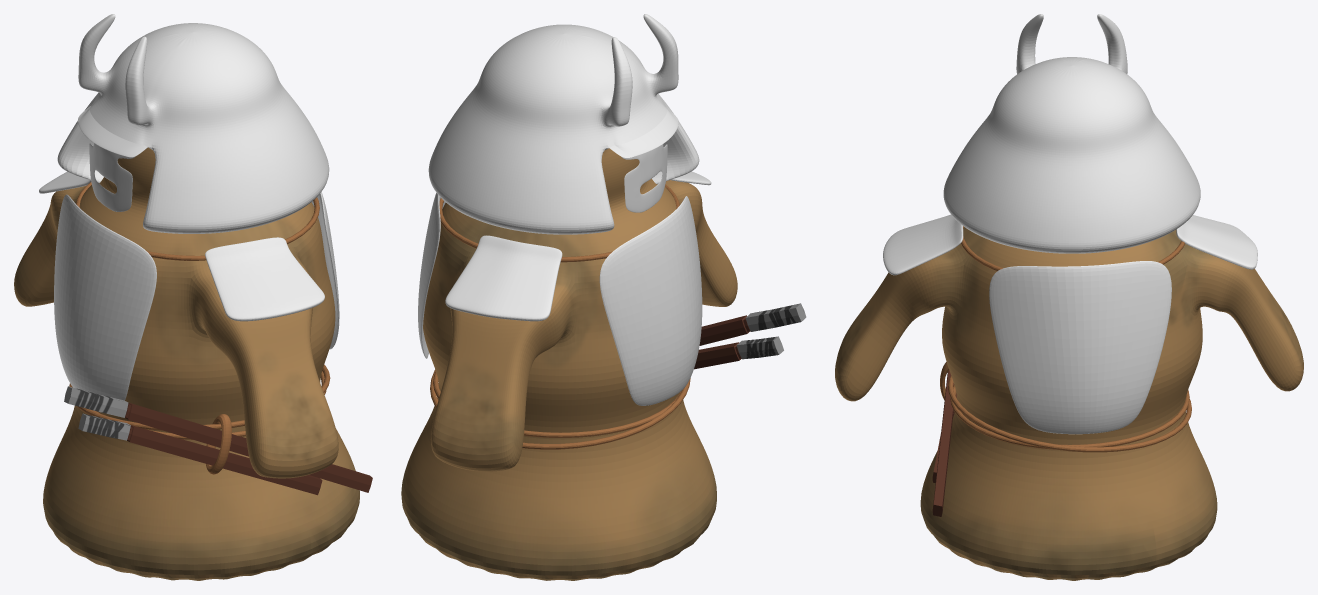
File: Samurai.fbx
3 views of the same model, side by side, from view 1: azimuth 30°, elevation 25°; view 2: azimuth 150°, elevation 25°; view 3: azimuth 270°, elevation 25° (orthographic). The views are drawn at different scales.
Parts seen in each view (by area): view 1: Unit Samurai, Samura, Katana, Belts; view 2: Unit Samurai, Samura, Katana, Belts; view 3: Samura, Unit Samurai, Belts, Katana.
Part boxes in pixels (x1=…): Unit Samurai: x1=14, y1=147, x2=359, y2=580; Samura: x1=39, y1=14, x2=339, y2=400; Katana: x1=64, y1=386, x2=372, y2=495; Belts: x1=69, y1=182, x2=330, y2=474; Unit Samurai: x1=401, y1=148, x2=737, y2=580; Samura: x1=418, y1=14, x2=711, y2=405; Katana: x1=694, y1=303, x2=806, y2=369; Belts: x1=430, y1=184, x2=690, y2=449; Samura: x1=883, y1=14, x2=1257, y2=434; Unit Samurai: x1=835, y1=227, x2=1303, y2=580; Belts: x1=940, y1=226, x2=1191, y2=452; Katana: x1=932, y1=370, x2=956, y2=516.
Bounding box in the file's own units: 291 × 448 × 385.
